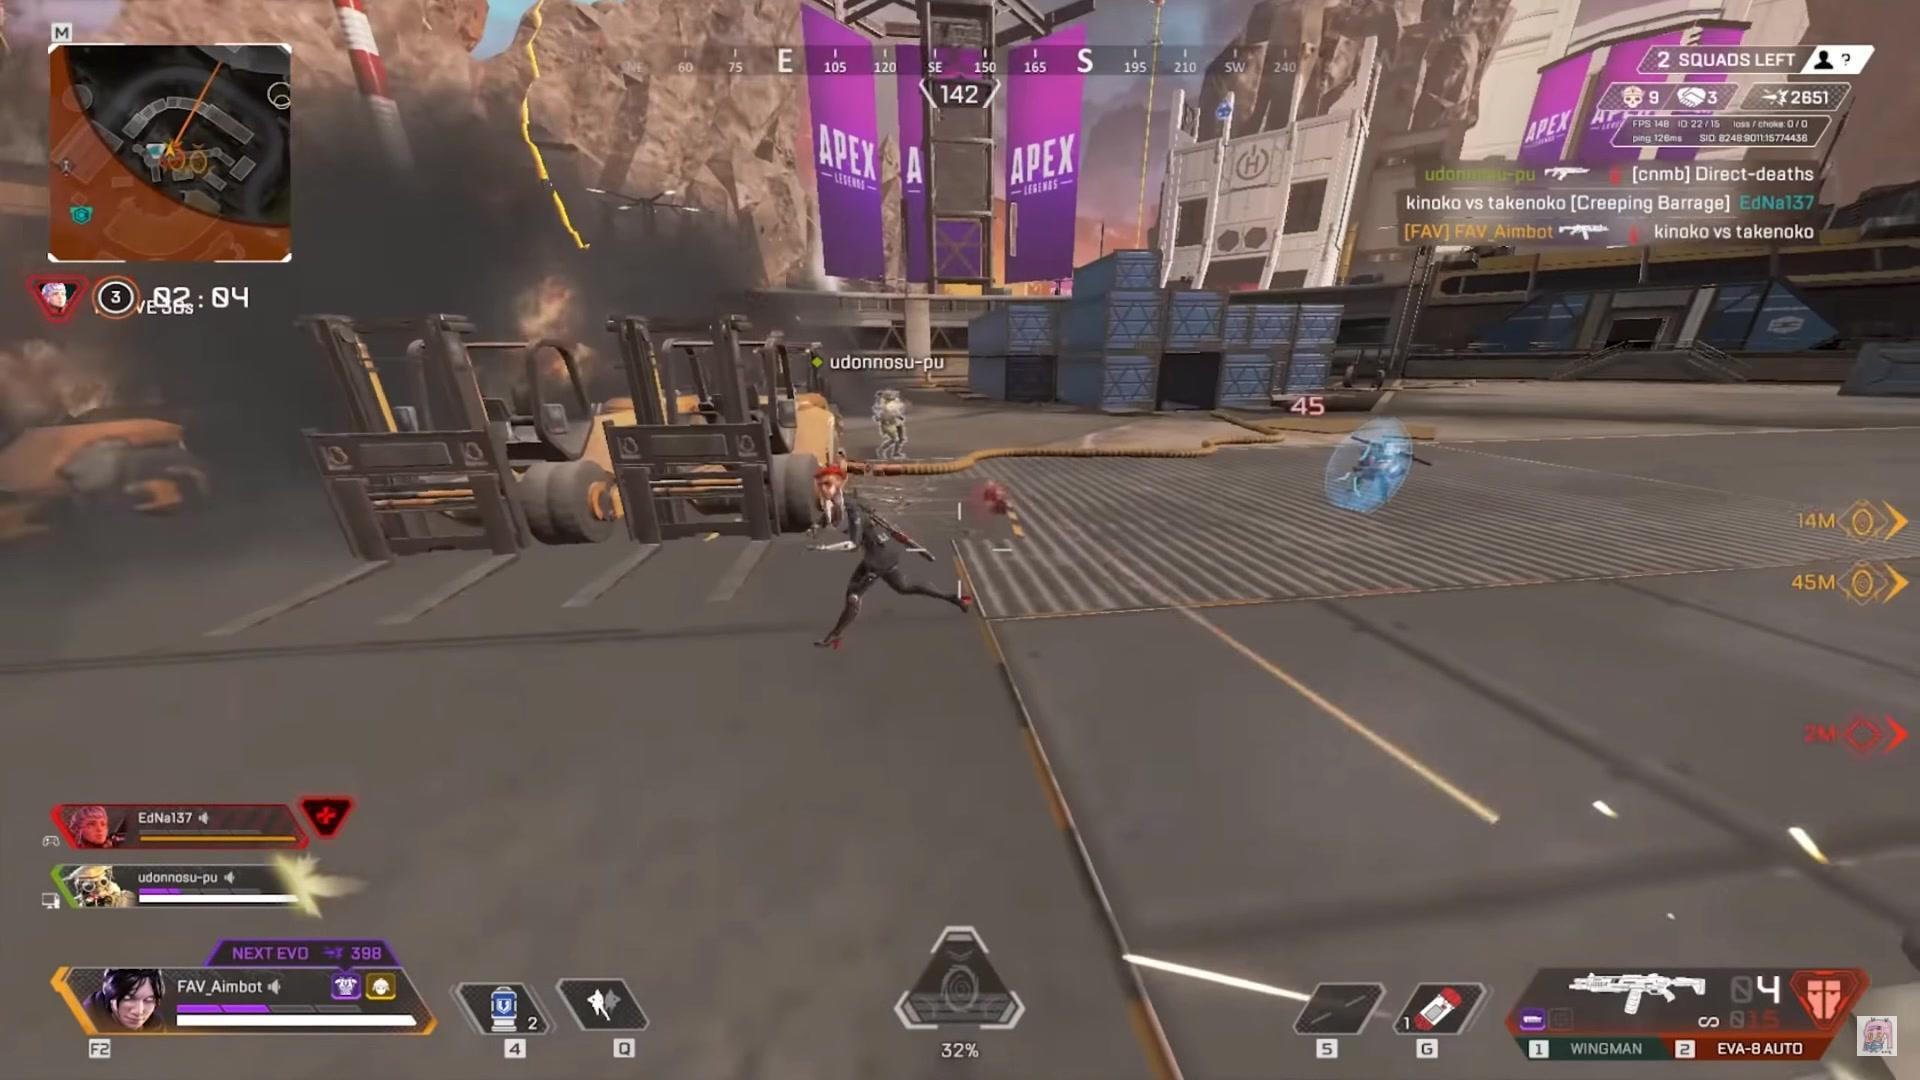avatar: (808, 467, 903, 652), (871, 387, 910, 461)
